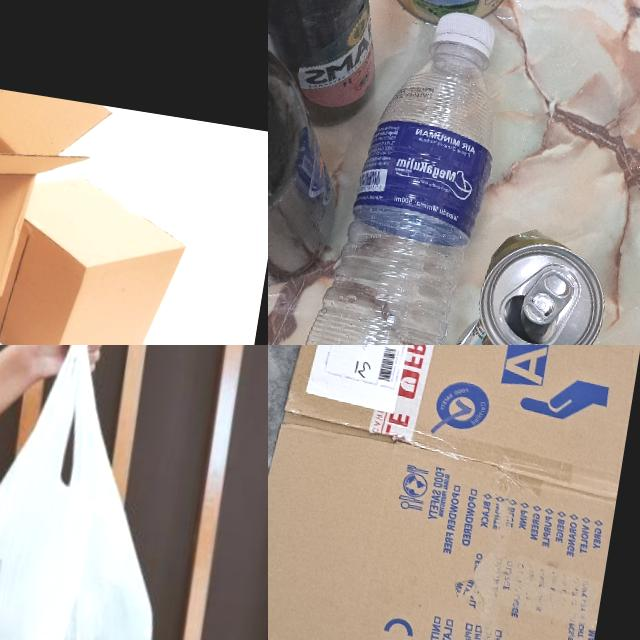aba de lata: (520, 260, 582, 332)
garrafa de vidro: (268, 33, 359, 298), (268, 0, 417, 130)
garrafa plástica: (290, 0, 514, 345), (0, 159, 193, 345), (0, 44, 114, 342)
lata: (438, 221, 615, 345)
papelão: (268, 345, 640, 640)
sacola plástica: (0, 345, 205, 640)
tampa plástica: (431, 10, 502, 61)
